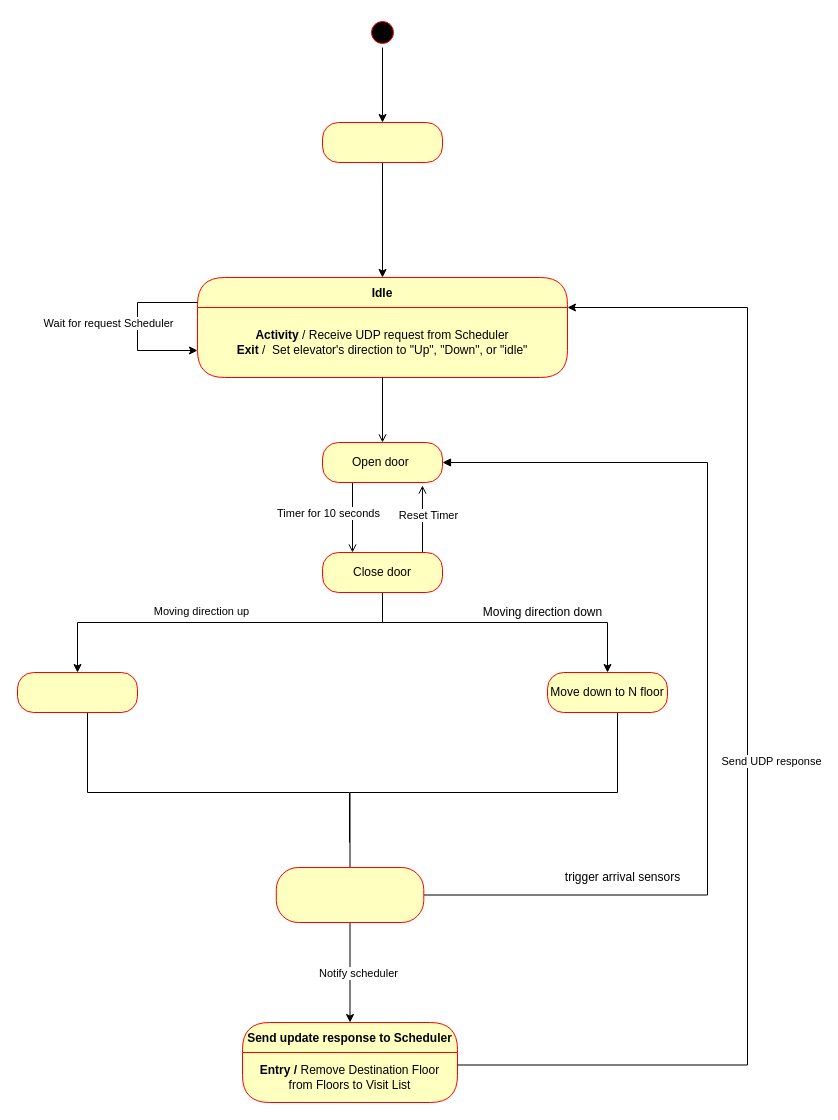
This 838x1120 diagram has some shape labels left out. The shapes that lost their labels are listed below. From the top down, each one's centre as x and y in pixels, then its label:
pixel 382 142: Elevator Thread Start
pixel 77 692: Move up N floor
pixel 349 894: Arrive at floor
